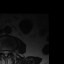CCS_normal: (5, 48, 7, 59)
LFS_stenosis: (9, 48, 12, 54)
LLS_stenosis: (7, 48, 9, 55)
RFS_stenosis: (0, 47, 3, 54)
RLS_normal: (2, 48, 5, 55)
